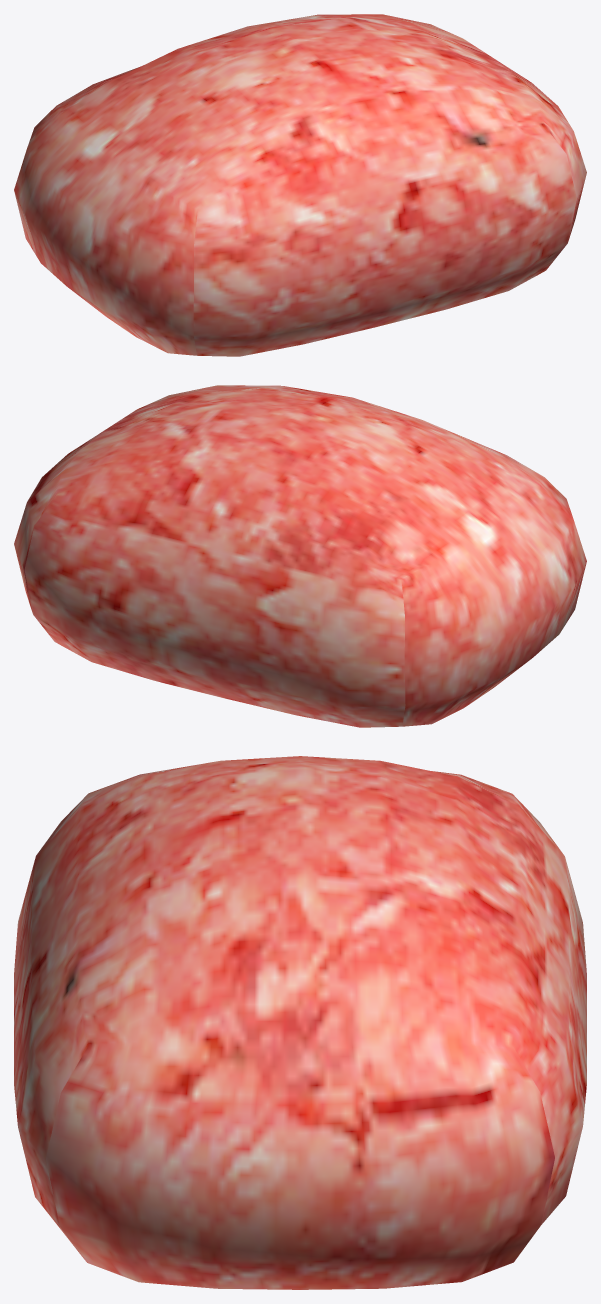
File: kotletaobject.fbx
3 views of the same model, one above another, from view 1: azimuth 30°, elevation 25°; view 2: azimuth 150°, elevation 25°; view 3: azimuth 270°, elevation 25° (orthographic). The views are drawn at different scales.
Parts seen in each view (by area): view 1: Cube; view 2: Cube; view 3: Cube.
Boxes of the visible parts, bbox=[...] form: Cube: bbox=[14, 14, 586, 356]; Cube: bbox=[14, 385, 586, 727]; Cube: bbox=[14, 756, 586, 1289].
Bounding box in the file's own units: 332 × 158 × 223.
Materials: 1 (1 with a texture image).
